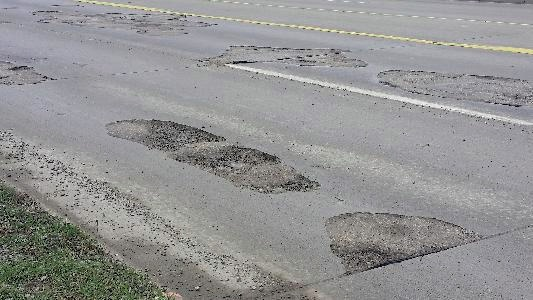pothole: (176, 146, 279, 168), (146, 116, 224, 145), (335, 246, 396, 271)
